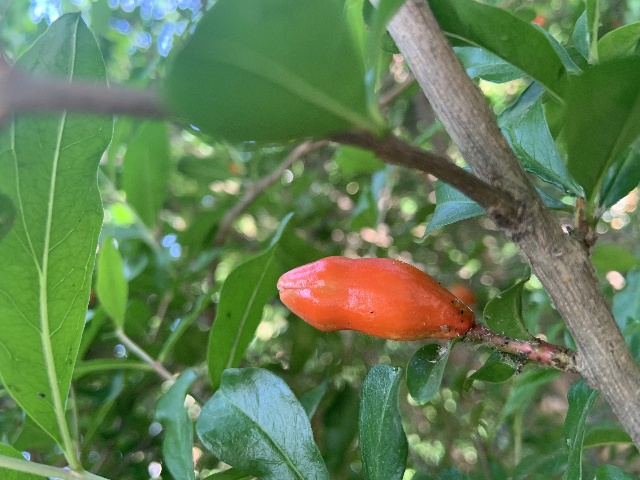bud: (273, 255, 474, 341)
